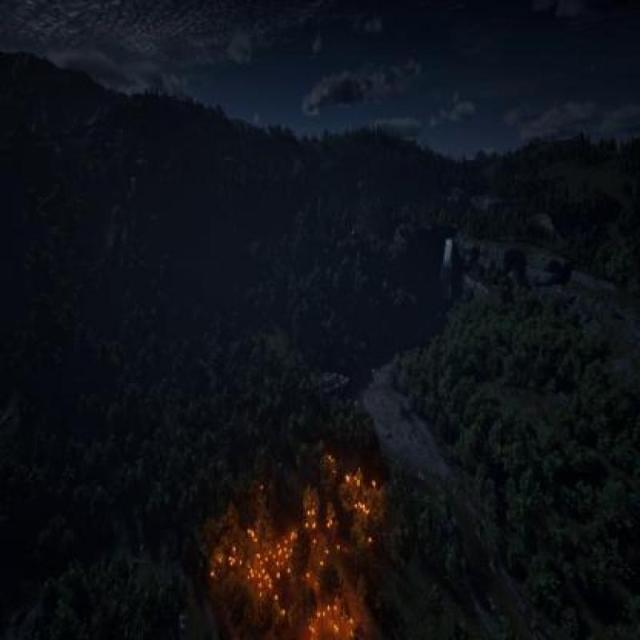Fire: (288, 450, 382, 565), (202, 529, 288, 614), (289, 567, 372, 640)
